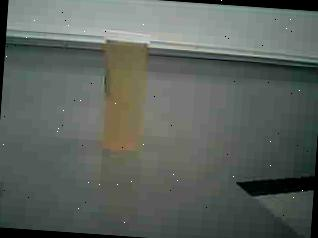Bottle A: (86, 22, 166, 162)
